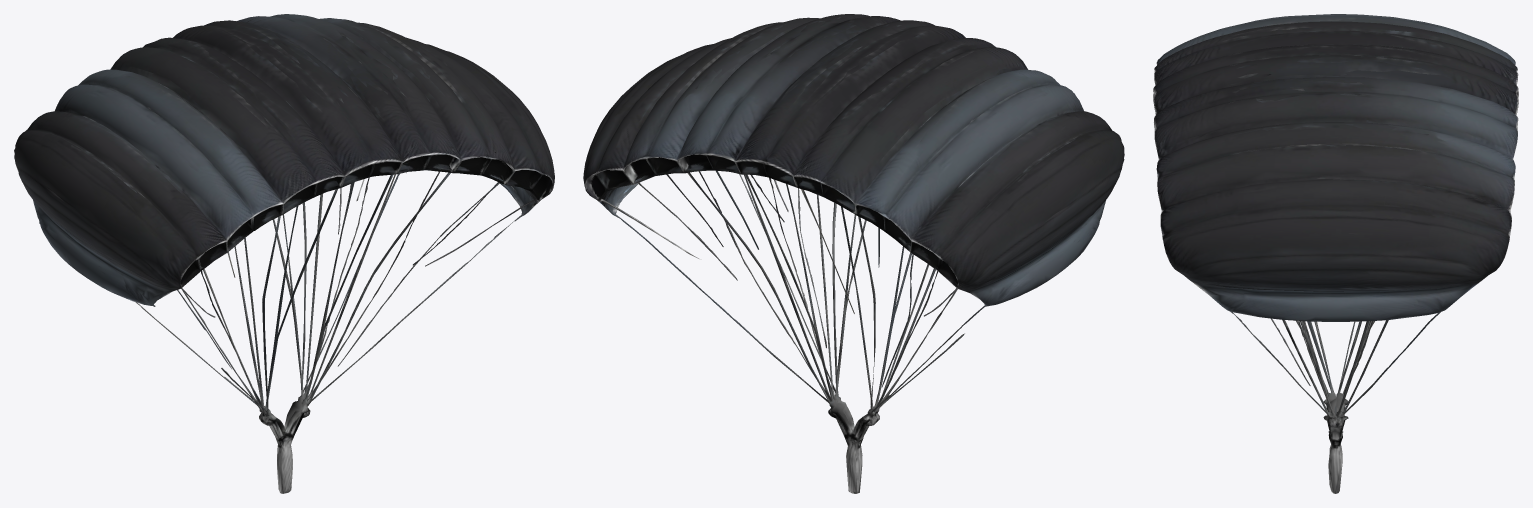
File: parachute.glb
The picture shows the model from 3 angles, left to right: view 1: azimuth 30°, elevation 25°; view 2: azimuth 150°, elevation 25°; view 3: azimuth 270°, elevation 25°; orthographic projection.
Parts seen in each view (by area): view 1: node_0; view 2: node_0; view 3: node_0.
Part boxes in pixels (<box>): node_0: <box>14,14,554,493</box>; node_0: <box>583,14,1124,493</box>; node_0: <box>1153,14,1518,493</box>.
Size of the model in its own units: 1.01 by 0.9642 by 0.7268.
1 material, 1 textured.
